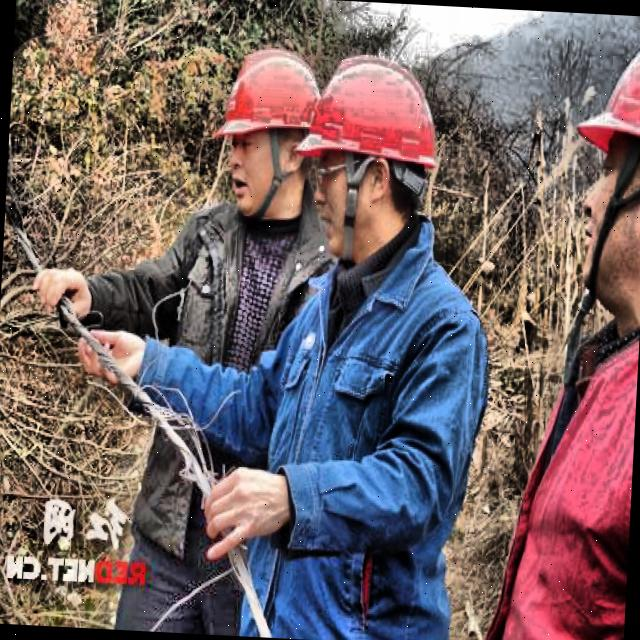helmet: (302, 36, 451, 278), (546, 29, 640, 354), (199, 33, 327, 232)
